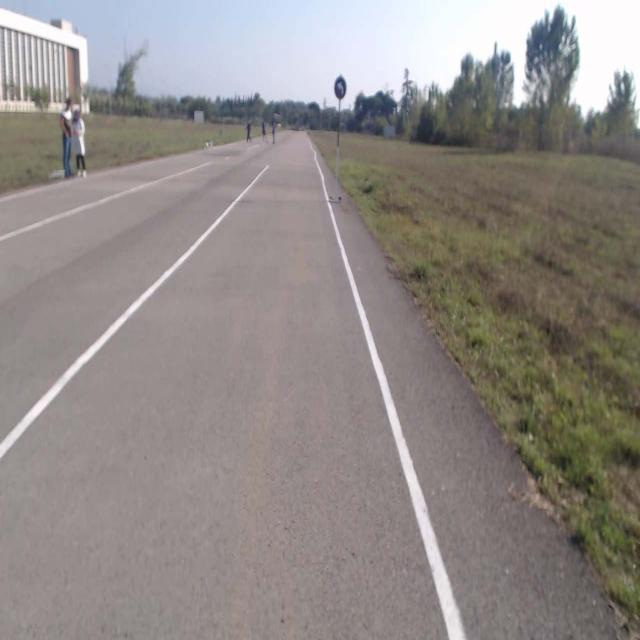sol: (335, 78, 346, 99)
